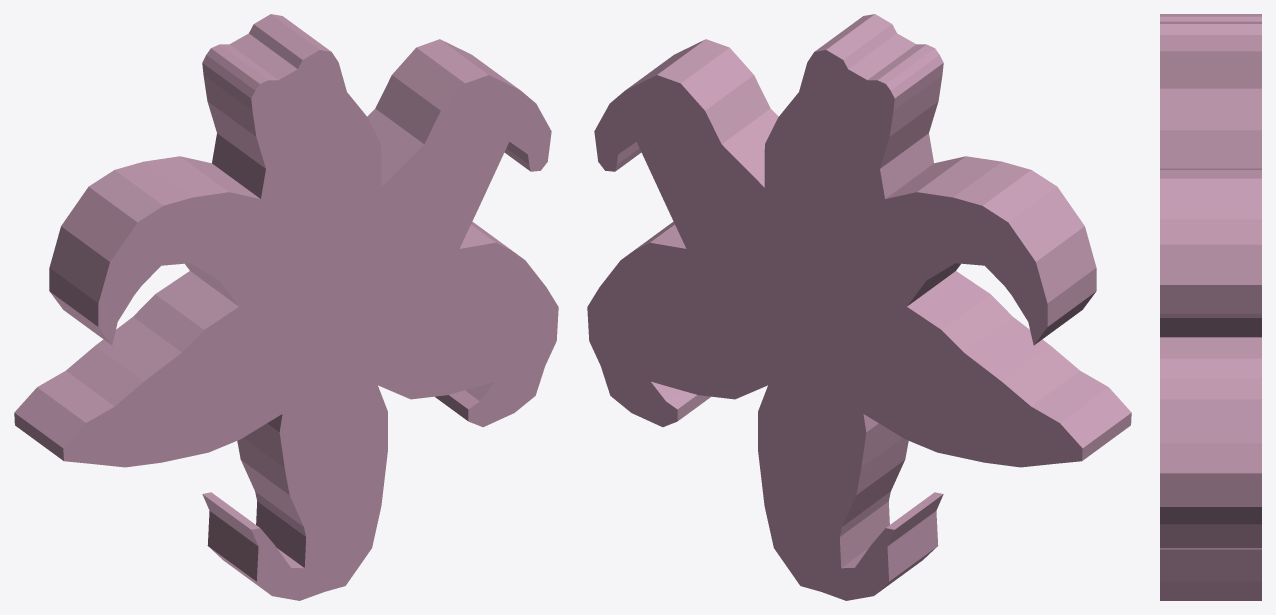
File: Lily_1.fbx
3 views of the same model, side by side, from view 1: azimuth 30°, elevation 25°; view 2: azimuth 150°, elevation 25°; view 3: azimuth 270°, elevation 25° (orthographic). The views are drawn at different scales.
Parts seen in each view (by area): view 1: pPlane31; view 2: pPlane31; view 3: pPlane31.
Part boxes in pixels (x1,y1,x2,y2): pPlane31: (14,14,558,600); pPlane31: (587,14,1131,600); pPlane31: (1160,14,1261,600).
Size of the model in its own units: 0.22 by 0.2318 by 0.0377.
